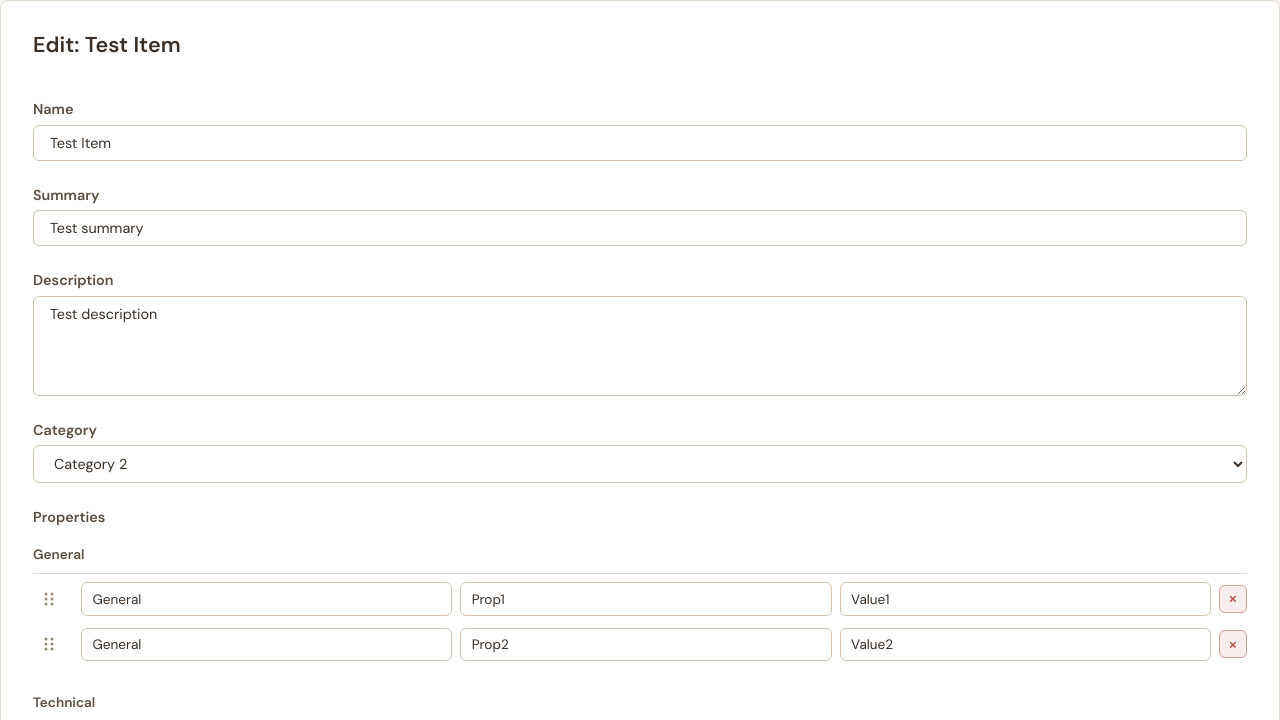
Test: ItemEditor › property editor › should remove property
Click the button named "Remove property" at [1233, 599], box [1219,585,1247,613]
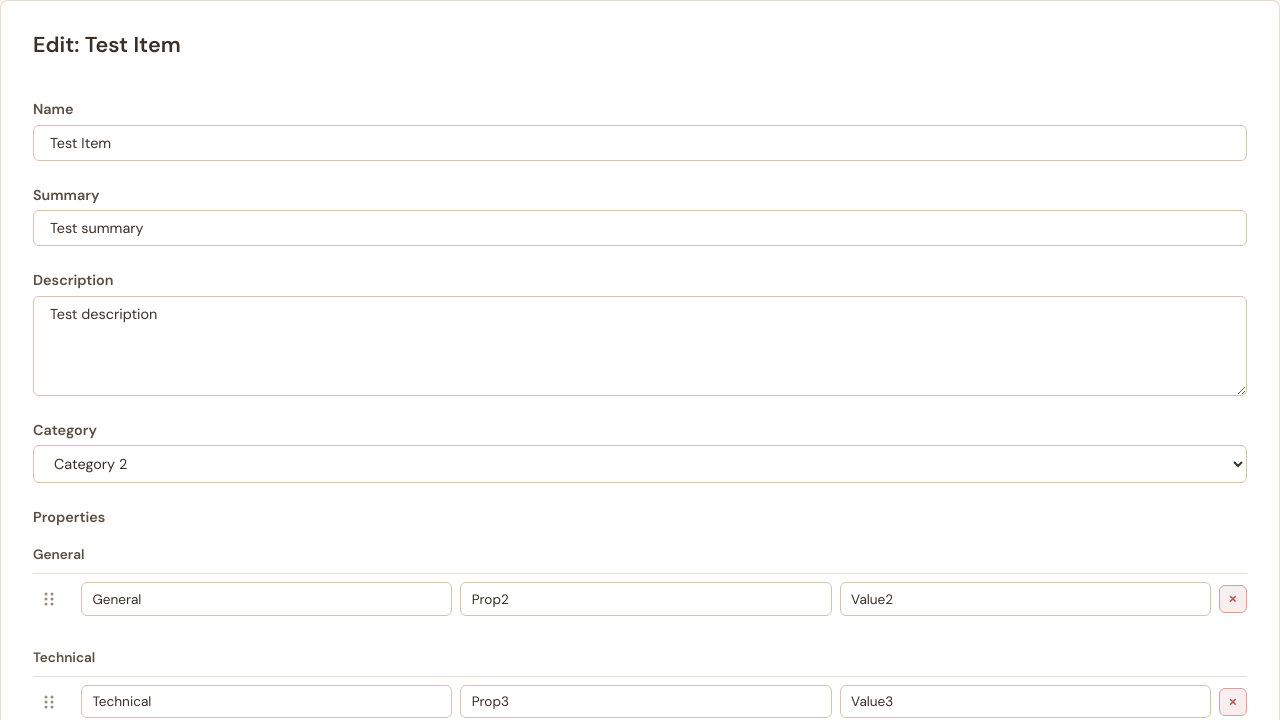
Now the number of fields with placeholder "Category" is 2, box [81,582,452,616]; [81,685,452,718]
